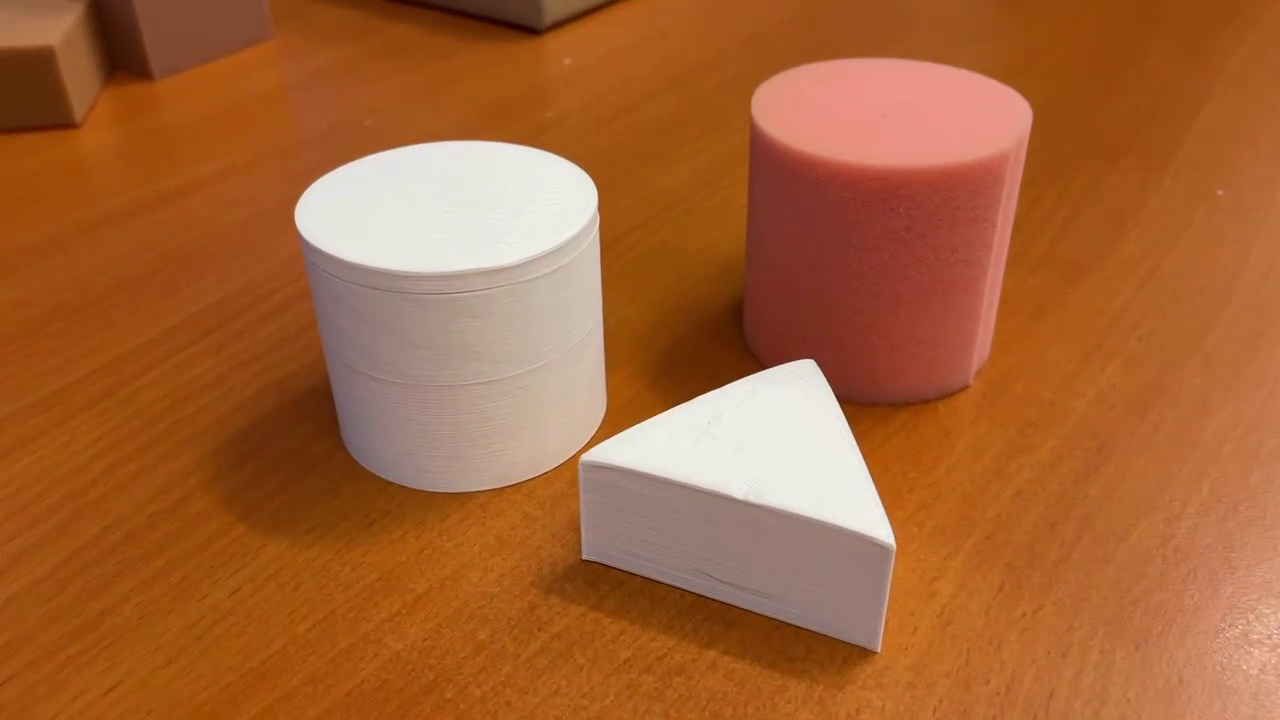Cylinder: (288, 126, 613, 502), (725, 50, 1042, 411)
Triangle_short: (569, 345, 900, 661)
